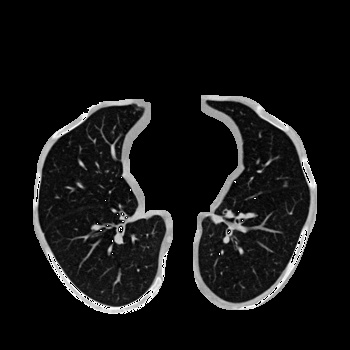PN: (283, 182, 287, 186)
